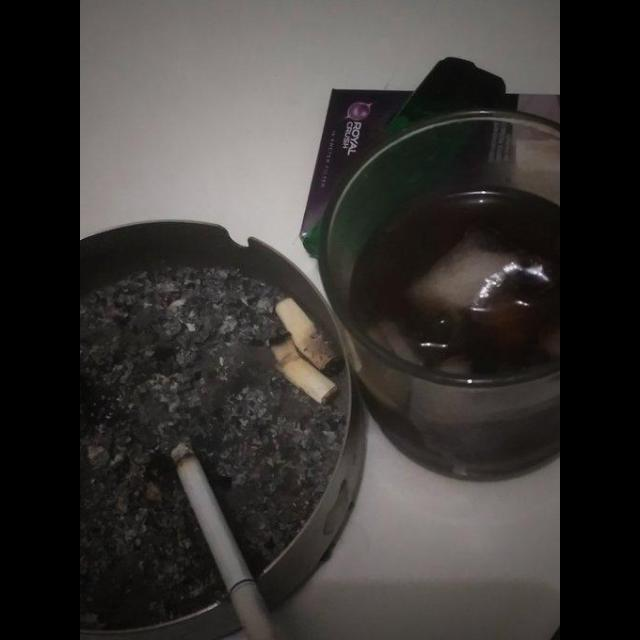rokok: (167, 430, 285, 640), (276, 294, 340, 371), (270, 334, 340, 404)
